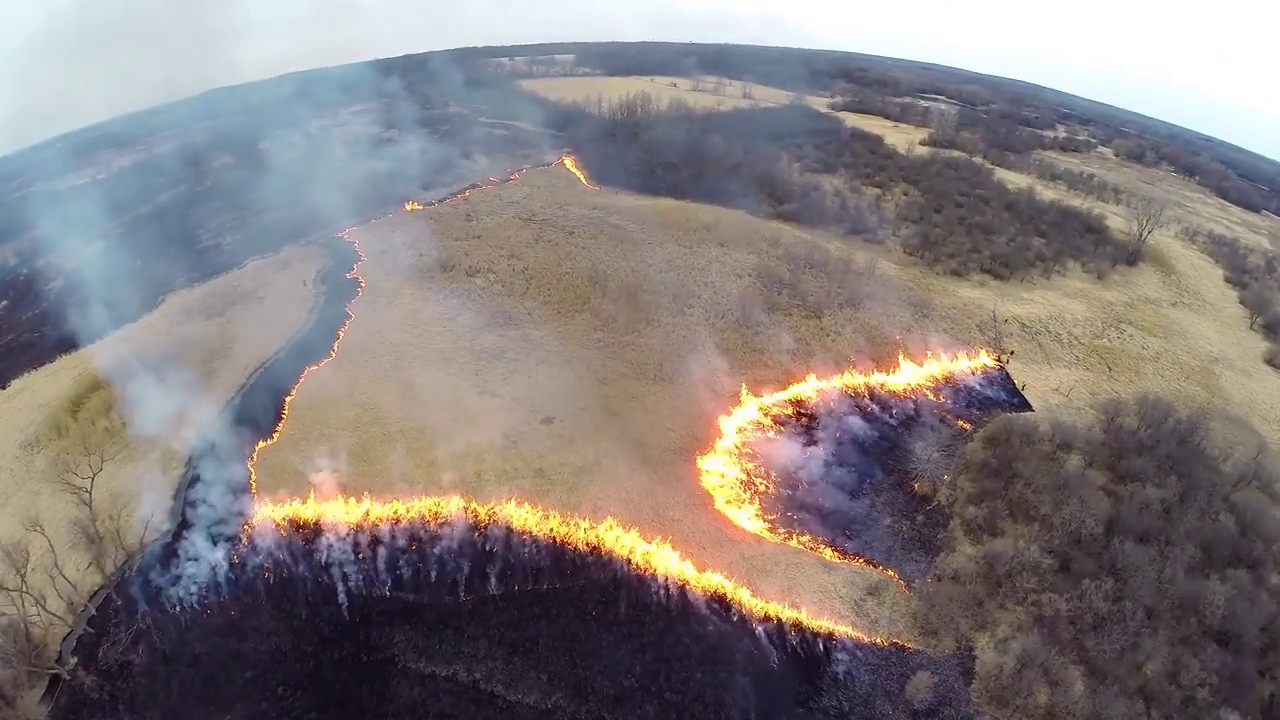forest_fire: (245, 491, 890, 644), (695, 350, 996, 590), (247, 229, 366, 497), (403, 154, 598, 209)
